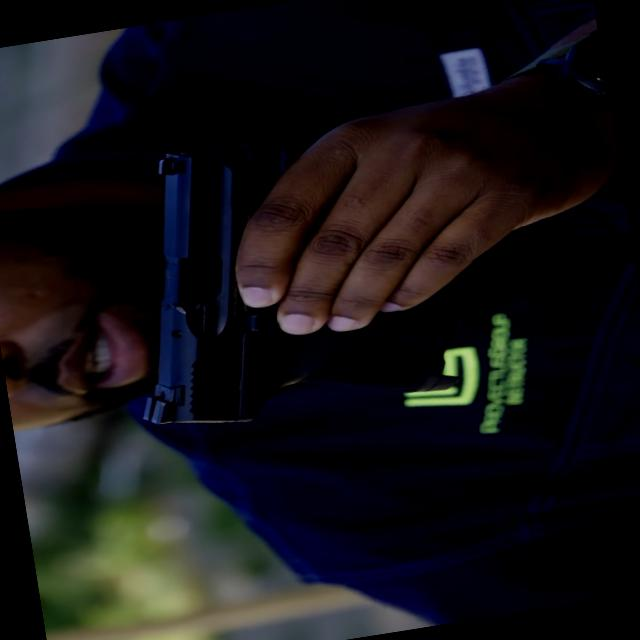handgun: (93, 101, 484, 442)
